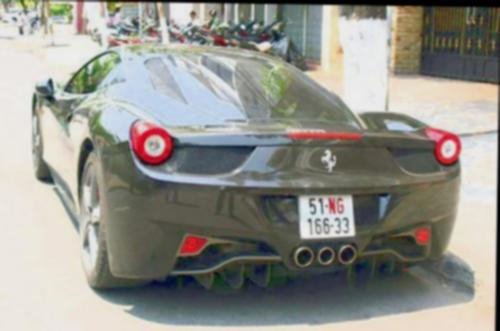License_Plate: (296, 189, 357, 240)
